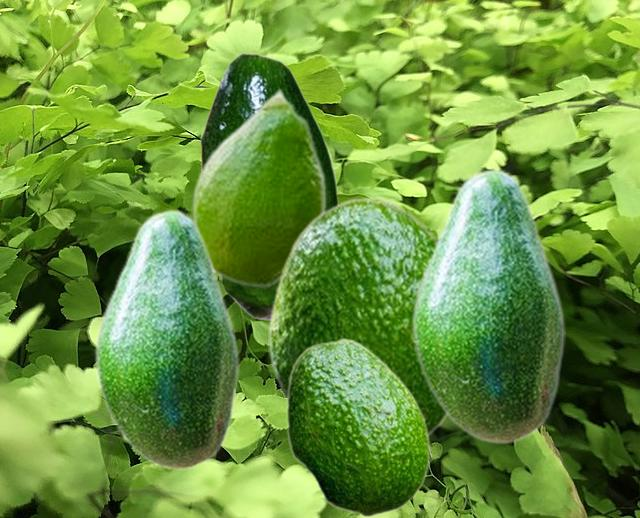avocado: (268, 196, 448, 438), (410, 167, 564, 444), (93, 208, 238, 470), (200, 52, 340, 319), (191, 87, 326, 287), (285, 337, 429, 516)
